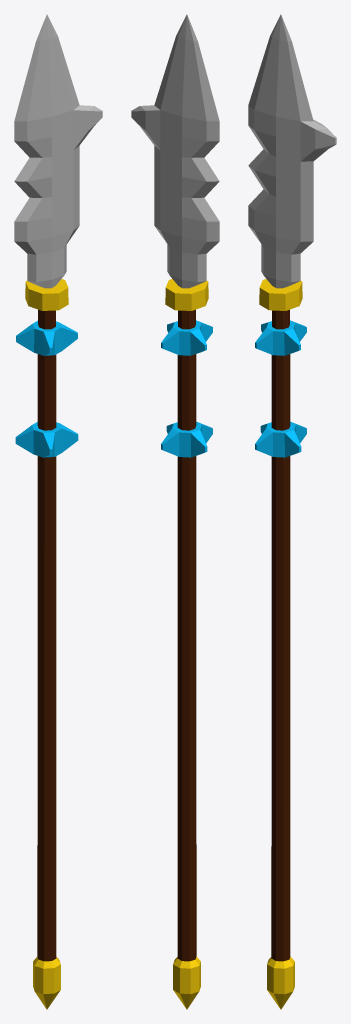
The model's file is spear.fbx.
The picture shows the model from 3 angles, left to right: view 1: azimuth 30°, elevation 25°; view 2: azimuth 150°, elevation 25°; view 3: azimuth 330°, elevation 25°; orthographic projection.
Visible parts, largest first — view 1: spear; view 2: spear; view 3: spear.
Part boxes in pixels (x1,y1,x2,y2): spear: (14,14,102,1009); spear: (131,14,219,1009); spear: (248,14,336,1009).
Size of the model in its own units: 192 by 2070 by 112.
1 material, 1 textured.
